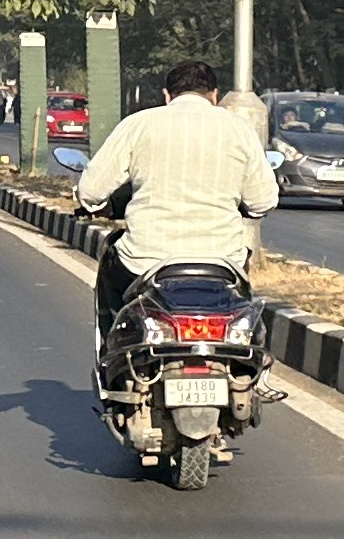BikeWithRider: (48, 62, 284, 492)
NoHelmet: (162, 61, 220, 107)
